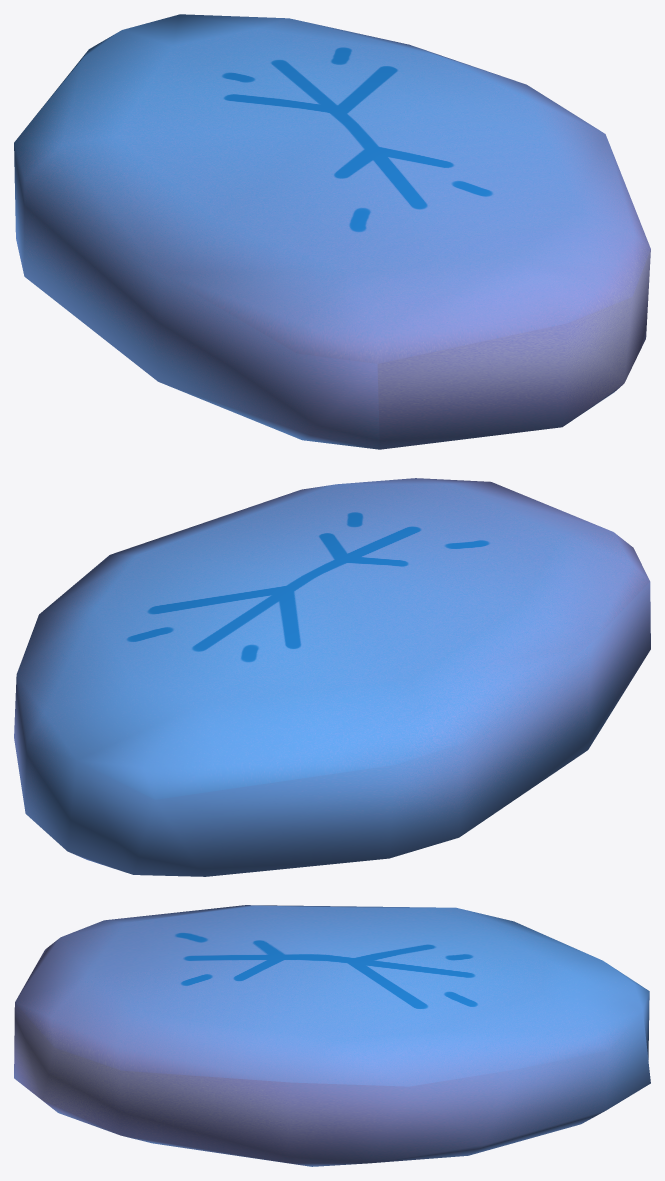
Rendered from Runestone_FBXFILE.fbx.
The picture shows the model from 3 angles, top to bottom: view 1: azimuth 30°, elevation 25°; view 2: azimuth 150°, elevation 25°; view 3: azimuth 270°, elevation 25°; orthographic projection. The views are drawn at different scales.
Visible parts, largest first — view 1: Cube.020_Cube.015; view 2: Cube.020_Cube.015; view 3: Cube.020_Cube.015.
Boxes of the visible parts, x1=… form: Cube.020_Cube.015: x1=14, y1=14, x2=650, y2=449; Cube.020_Cube.015: x1=14, y1=478, x2=650, y2=876; Cube.020_Cube.015: x1=14, y1=905, x2=650, y2=1166.
Size of the model in its own units: 21 by 8.33 by 31.7.
Materials: 1 (1 with a texture image).
